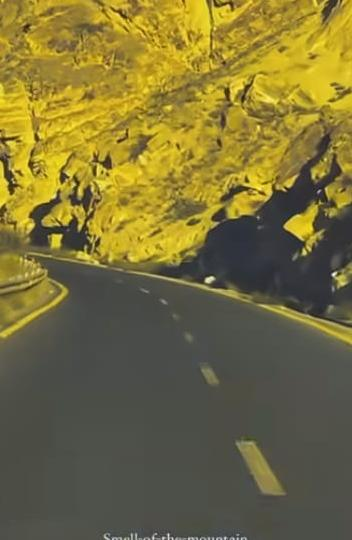left_turn: (0, 237, 200, 310)
